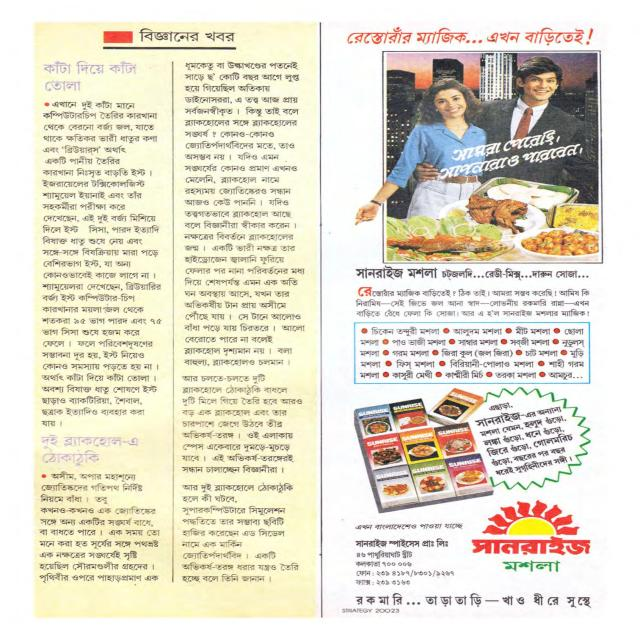advertisement: (336, 21, 624, 614)
paragraph: (37, 99, 164, 429), (180, 59, 308, 369), (34, 469, 164, 584), (179, 372, 304, 476), (177, 481, 301, 585)
title: (36, 432, 142, 467), (40, 58, 139, 94), (134, 26, 236, 44)
